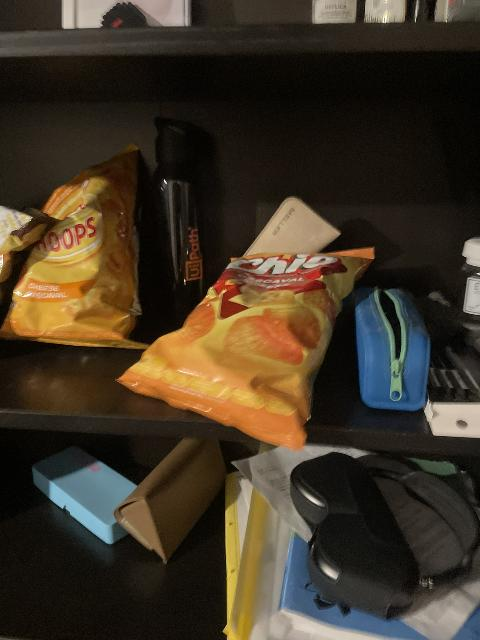Chio Cascaval 125g: (113, 242, 380, 453)
Chio Hula Hoops Cheese 70g: (1, 147, 151, 346)
